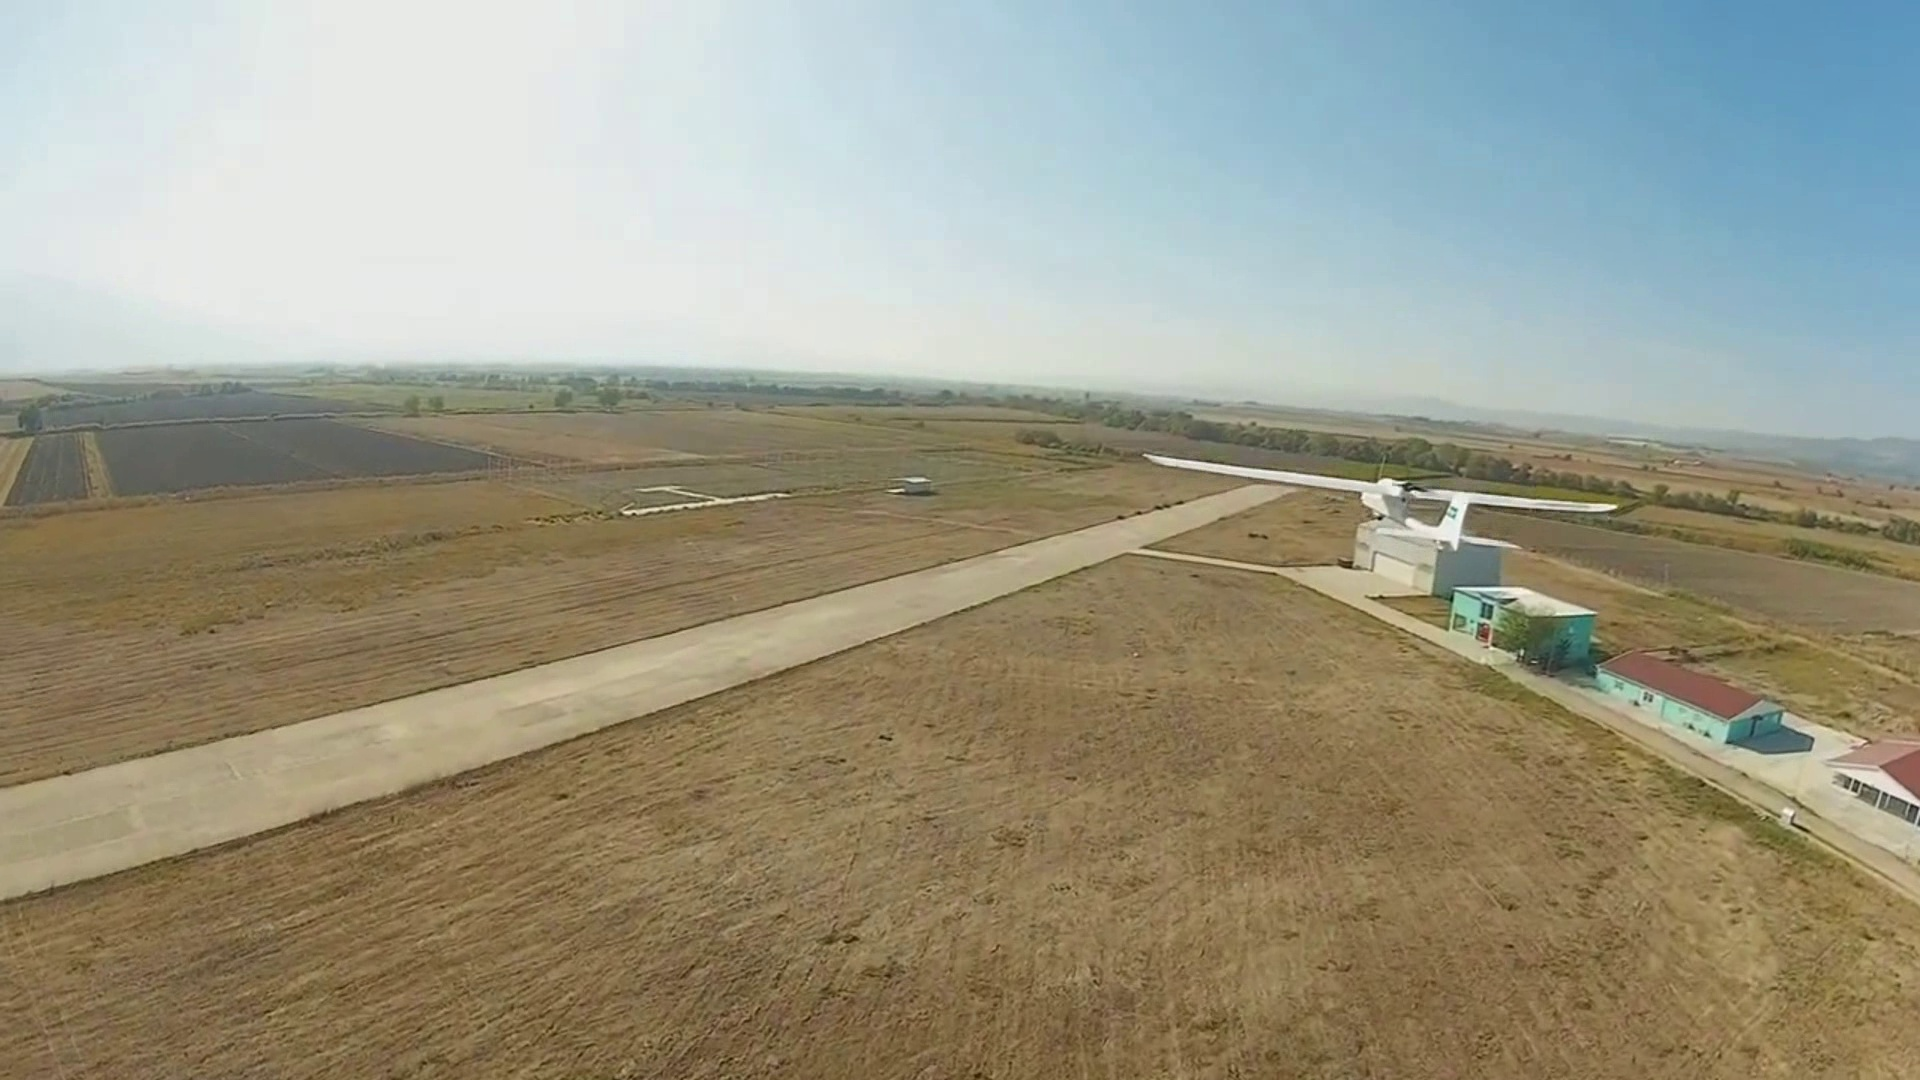airplane: (1133, 447, 1635, 555)
